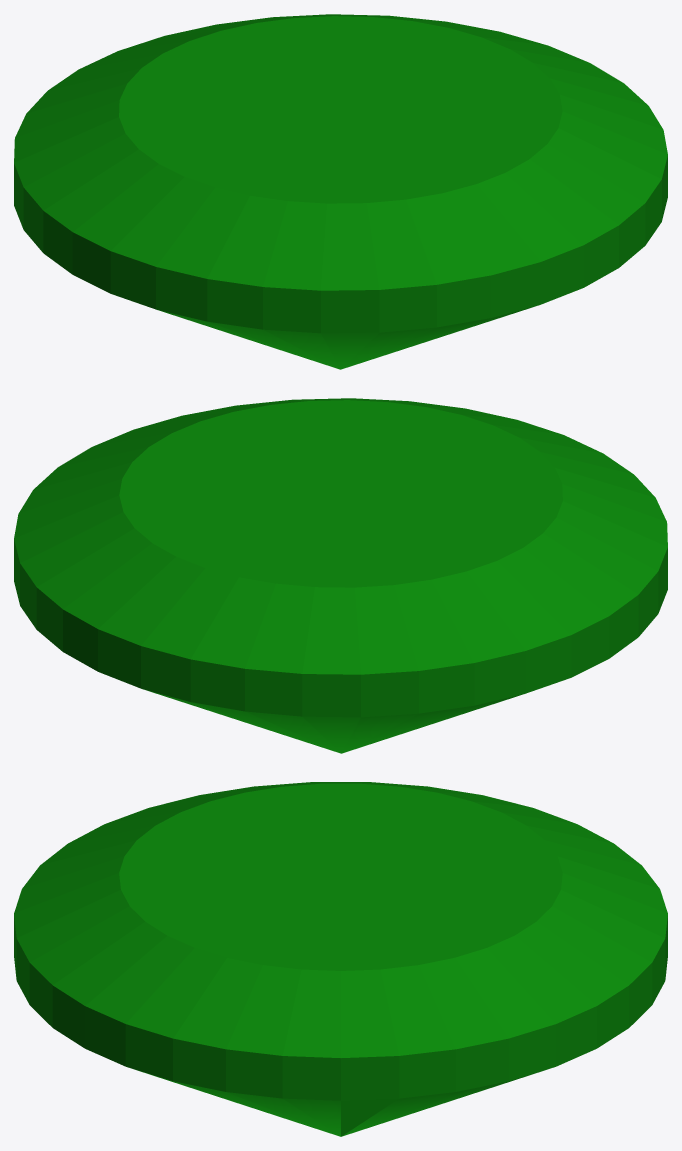
The model's file is green_diamond.dae.
3 views of the same model, one above another, from view 1: azimuth 30°, elevation 25°; view 2: azimuth 150°, elevation 25°; view 3: azimuth 270°, elevation 25° (orthographic).
Visible parts, largest first — view 1: NGon001; view 2: NGon001; view 3: NGon001.
Boxes of the visible parts, x1,y1,x2,y2 form: NGon001: [14, 14, 667, 369]; NGon001: [14, 398, 667, 753]; NGon001: [14, 782, 667, 1136].
Size of the model in its own units: 13.59 by 5.96 by 13.6.
